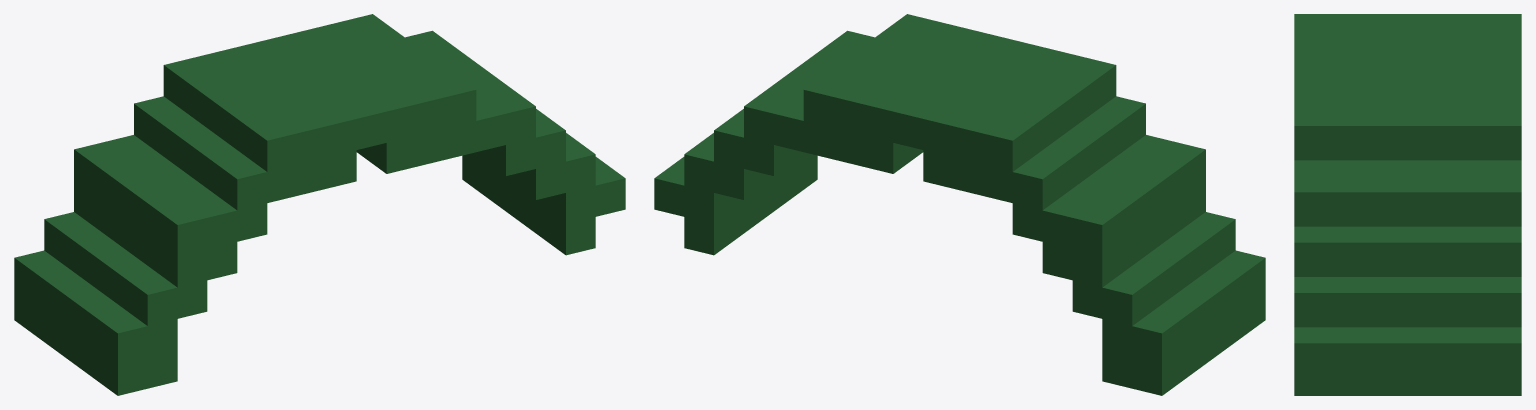
The model's file is scooter_front_mudguard.glb.
3 renders of one model, left to right at view 1: azimuth 30°, elevation 25°; view 2: azimuth 150°, elevation 25°; view 3: azimuth 270°, elevation 25°, orthographic. The views are drawn at different scales.
Parts seen in each view (by area): view 1: body:compound; view 2: body:compound; view 3: body:compound.
Part boxes in pixels (x1,y1,x2,y2): body:compound: [14, 14, 625, 395]; body:compound: [654, 14, 1265, 395]; body:compound: [1294, 14, 1521, 395].
Size of the model in its own units: 0.5312 by 0.2188 by 0.1875.
